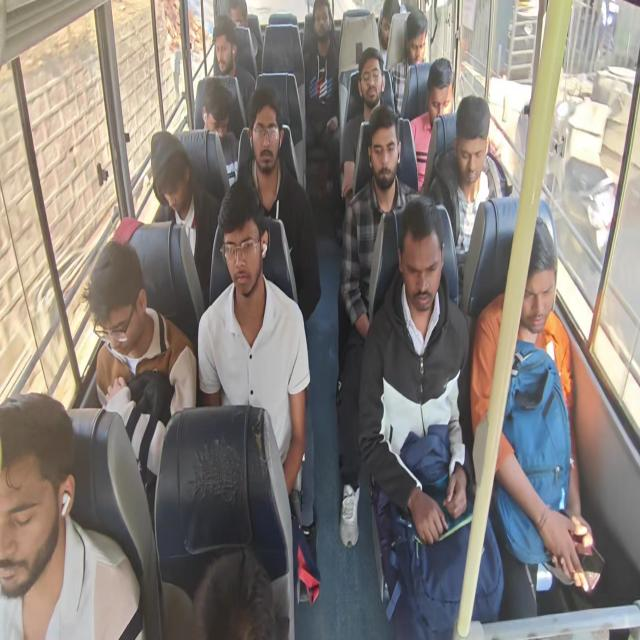person: (357, 194, 504, 638), (470, 215, 593, 594), (197, 180, 311, 536), (336, 105, 421, 548), (0, 391, 143, 638), (81, 239, 197, 524), (218, 84, 322, 321), (428, 94, 504, 305), (150, 130, 220, 308), (192, 546, 277, 639), (302, 0, 340, 198), (340, 46, 388, 202), (409, 57, 453, 192), (211, 15, 256, 114), (388, 9, 428, 116), (200, 82, 238, 174), (201, 81, 231, 138), (377, 0, 401, 69)
